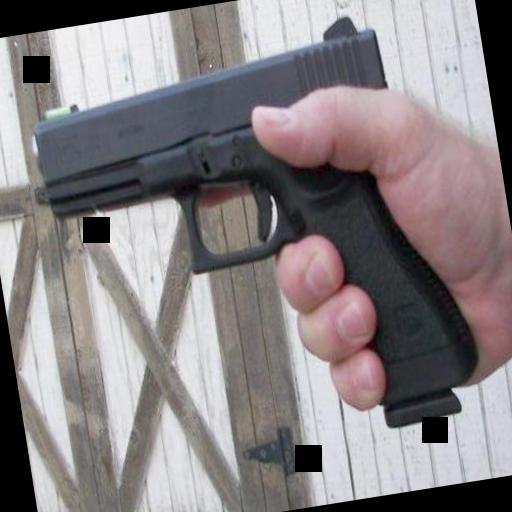Handgun: (8, 4, 482, 480)
